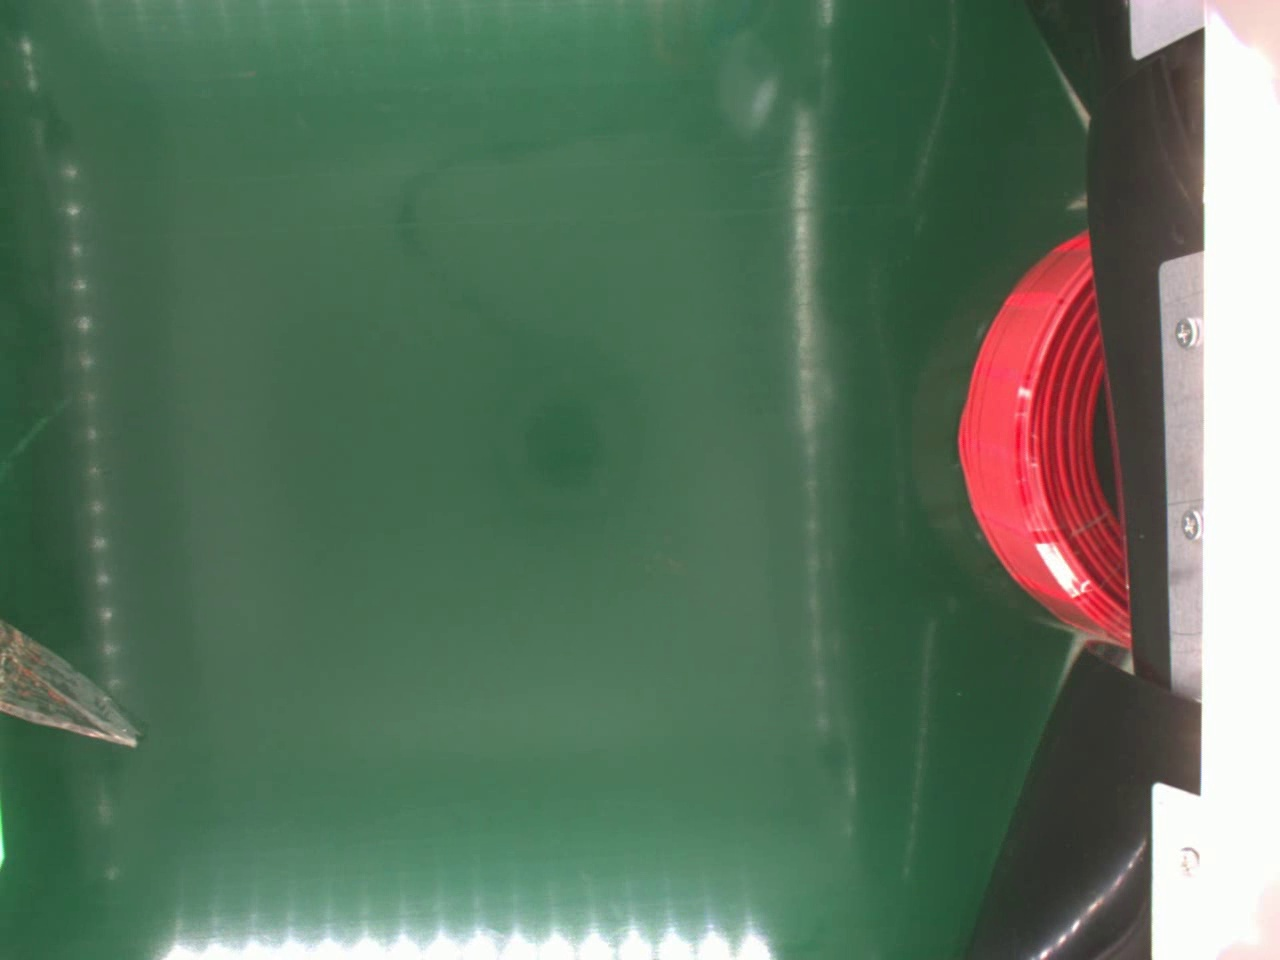red: (958, 230, 1134, 646)
